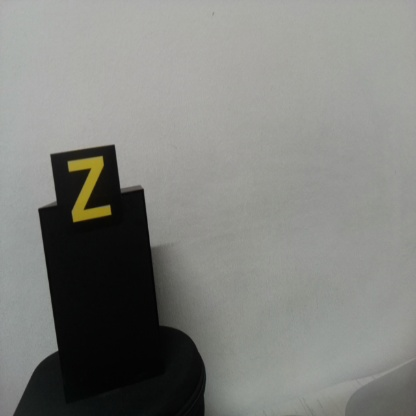id_15: (51, 153, 123, 237)
